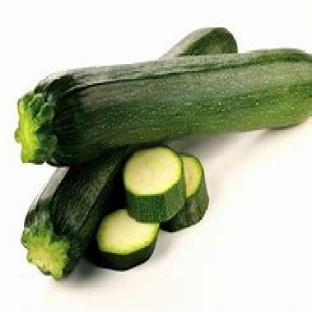Zucchini: (16, 49, 311, 164), (22, 148, 132, 279), (16, 68, 140, 164), (124, 148, 185, 223), (88, 209, 159, 270), (161, 155, 208, 232), (162, 28, 238, 58)
